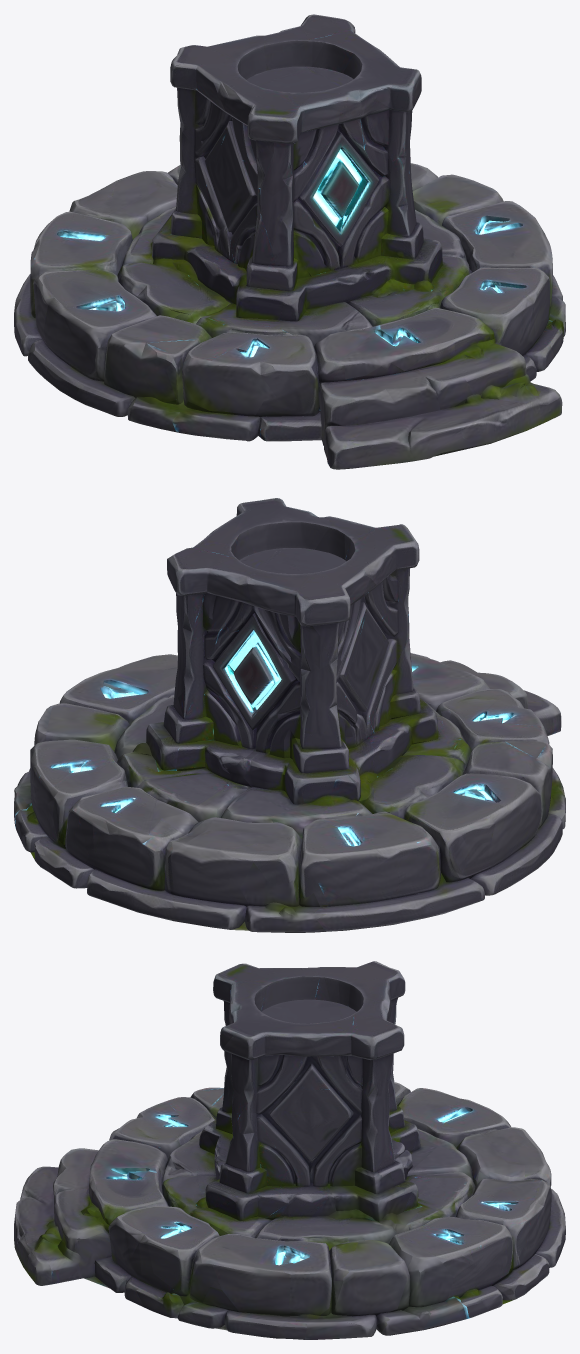
File: orb_altar.glb
The picture shows the model from 3 angles, top to bottom: view 1: azimuth 30°, elevation 25°; view 2: azimuth 150°, elevation 25°; view 3: azimuth 270°, elevation 25°; orthographic projection. The views are drawn at different scales.
Parts seen in each view (by area): view 1: altar; view 2: altar; view 3: altar.
Part boxes in pixels (bbox=[...]): altar: bbox=[14, 14, 565, 469]; altar: bbox=[14, 498, 565, 932]; altar: bbox=[14, 961, 565, 1339].
Bounding box in the file's own units: 2.41 × 1.68 × 2.68.
1 material, 1 textured.
